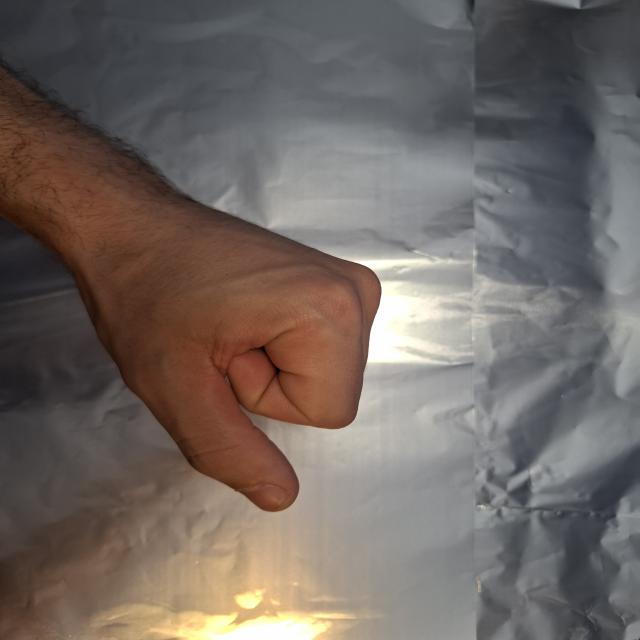glove_off: (38, 160, 386, 516)
